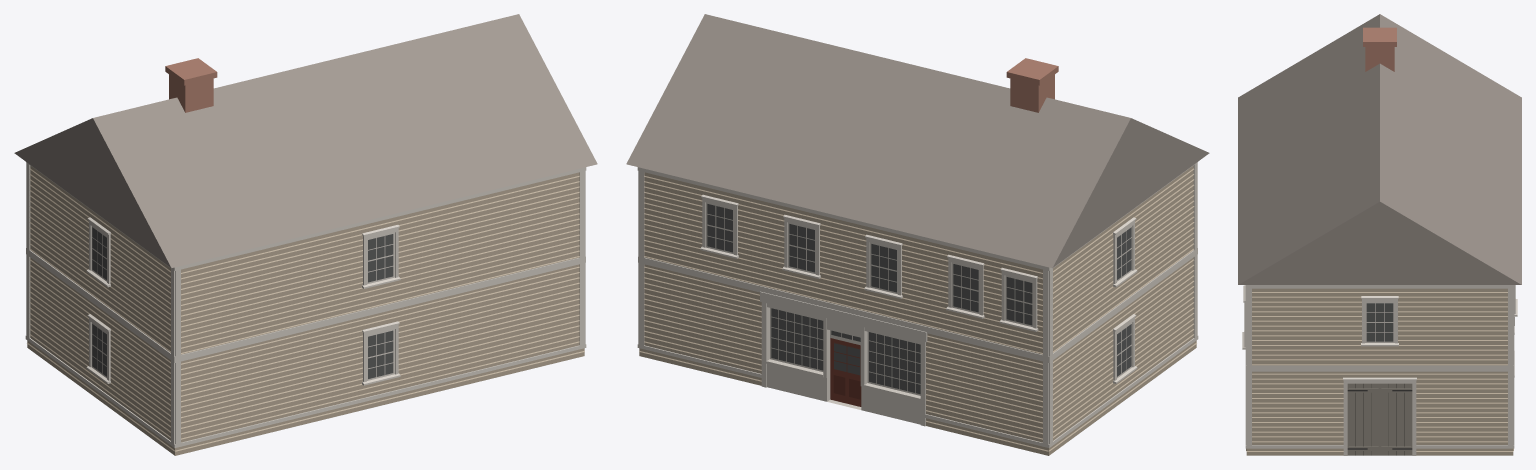
File: harmon_loomis_store__frame_1833.glb
The picture shows the model from 3 angles, left to right: view 1: azimuth 30°, elevation 25°; view 2: azimuth 150°, elevation 25°; view 3: azimuth 270°, elevation 25°; orthographic projection. The views are drawn at different scales.
Visible parts, largest first — view 1: harmon_loomis_store__frame_1833; view 2: harmon_loomis_store__frame_1833; view 3: harmon_loomis_store__frame_1833.
Part boxes in pixels (x1,y1,x2,y2): harmon_loomis_store__frame_1833: [14, 14, 597, 455]; harmon_loomis_store__frame_1833: [626, 14, 1209, 455]; harmon_loomis_store__frame_1833: [1238, 14, 1521, 455].
Bounding box in the file's own units: 12.69 × 8.85 × 8.12.
